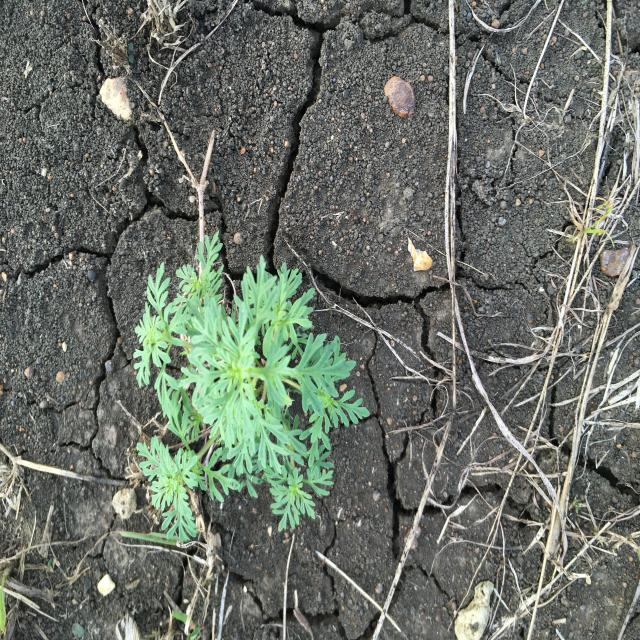Ragweed: (132, 229, 372, 543)
